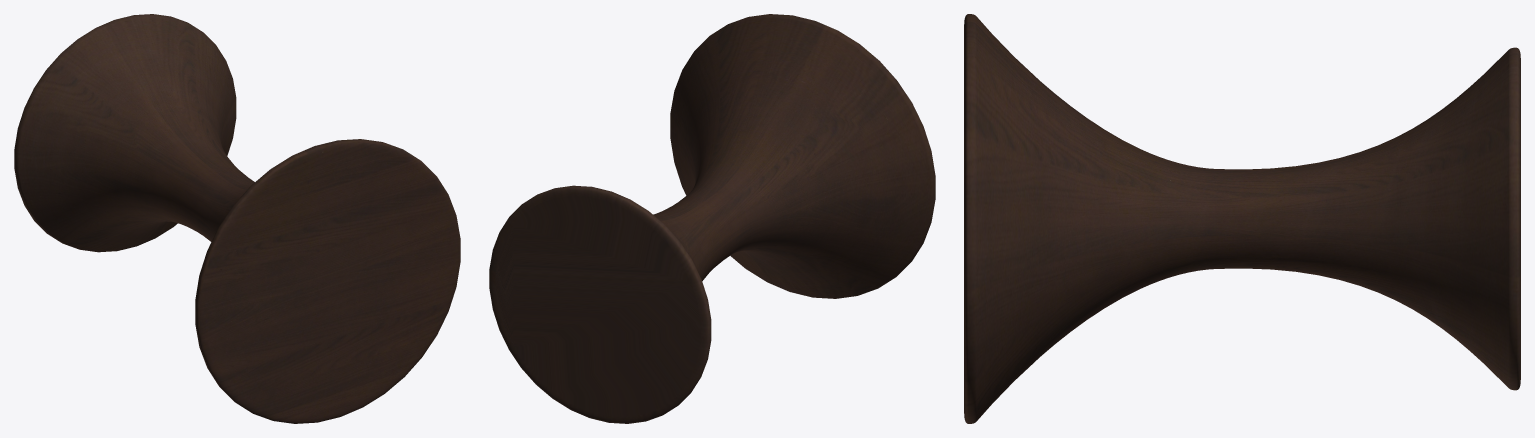
The model's file is SideTable.fbx.
3 views of the same model, side by side, from view 1: azimuth 30°, elevation 25°; view 2: azimuth 150°, elevation 25°; view 3: azimuth 270°, elevation 25° (orthographic). The views are drawn at different scales.
Visible parts, largest first — view 1: Line05; view 2: Line05; view 3: Line05.
Part boxes in pixels (x1=…): Line05: x1=14, y1=14, x2=460, y2=423; Line05: x1=489, y1=14, x2=935, y2=423; Line05: x1=964, y1=14, x2=1520, y2=423.
Size of the model in its own units: 418 by 418 by 570.
Materials: 1 (1 with a texture image).
